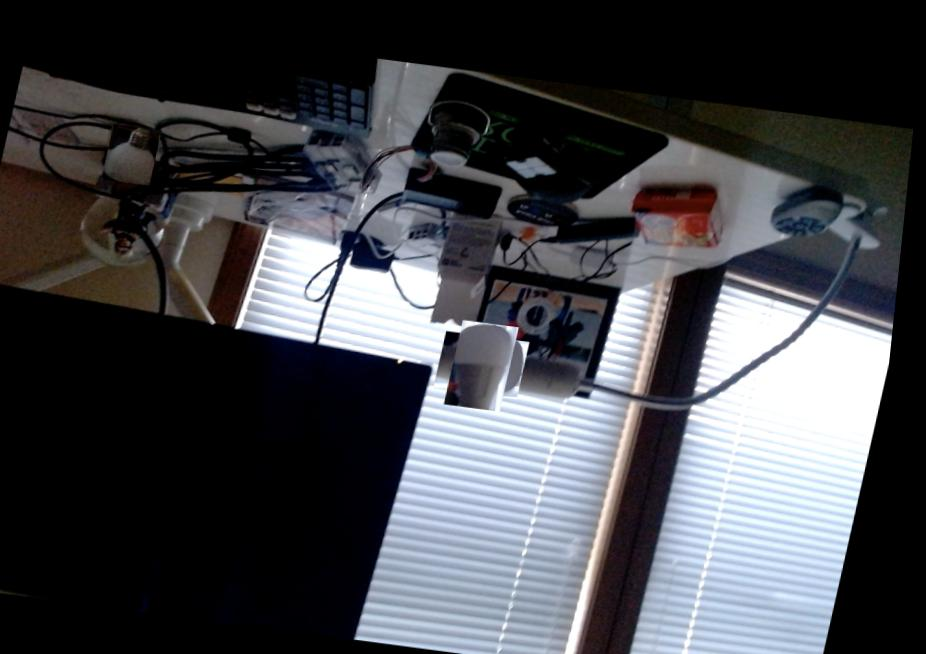Fan: (446, 323, 531, 403), (102, 122, 165, 185)
